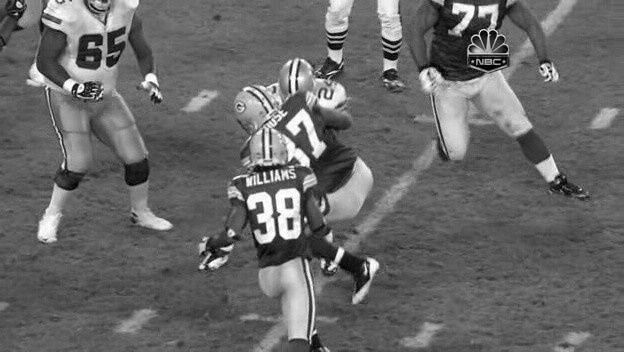person: (280, 61, 313, 103), (279, 61, 312, 103), (281, 61, 314, 103), (280, 60, 313, 102), (280, 62, 313, 104)
target_negative: (200, 40, 609, 271), (222, 44, 548, 314), (56, 102, 598, 236), (300, 118, 569, 247), (451, 300, 582, 330), (280, 338, 343, 345)
